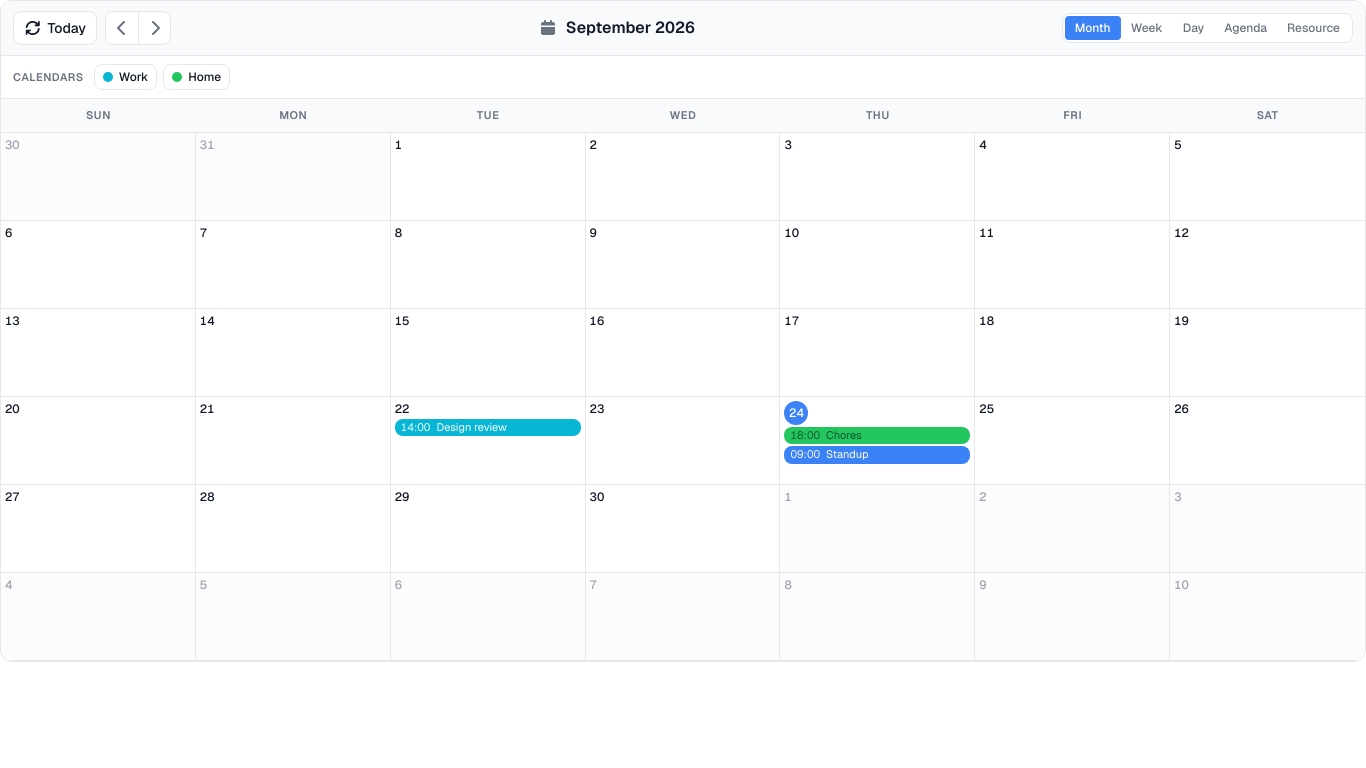
Test: <Calendar /> calendar legend › toggles a calendar’s events on and off
The width and height of the screenshot is (1366, 768).
Click the switch labelled "Home".
click(197, 77)  # box x1=163 y1=64 x2=230 y2=90
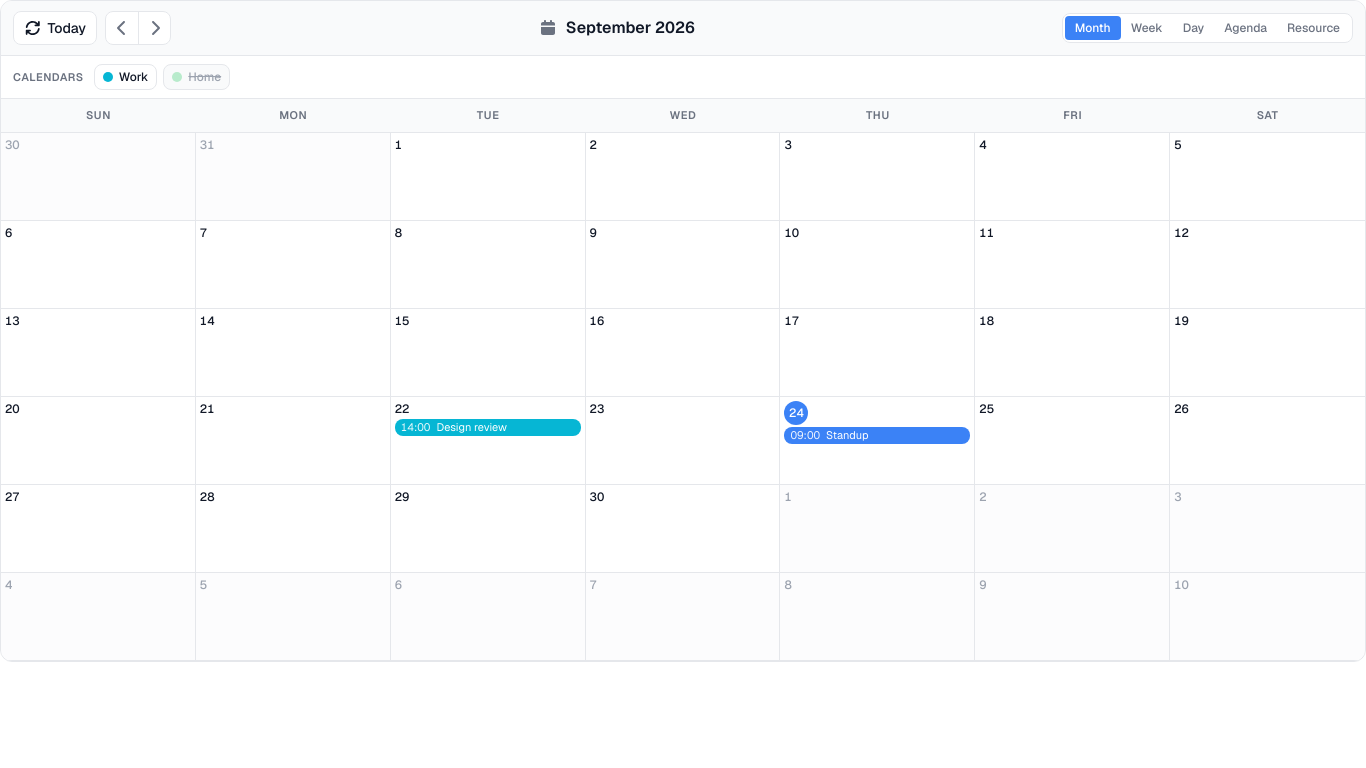
Check: the button "14:00 Design review" is shown, box x1=395 y1=418 x2=581 y2=436
Check: the button "Chores" is gone
Click the switch labelled "Home".
click(197, 77)  # box x1=163 y1=64 x2=230 y2=90
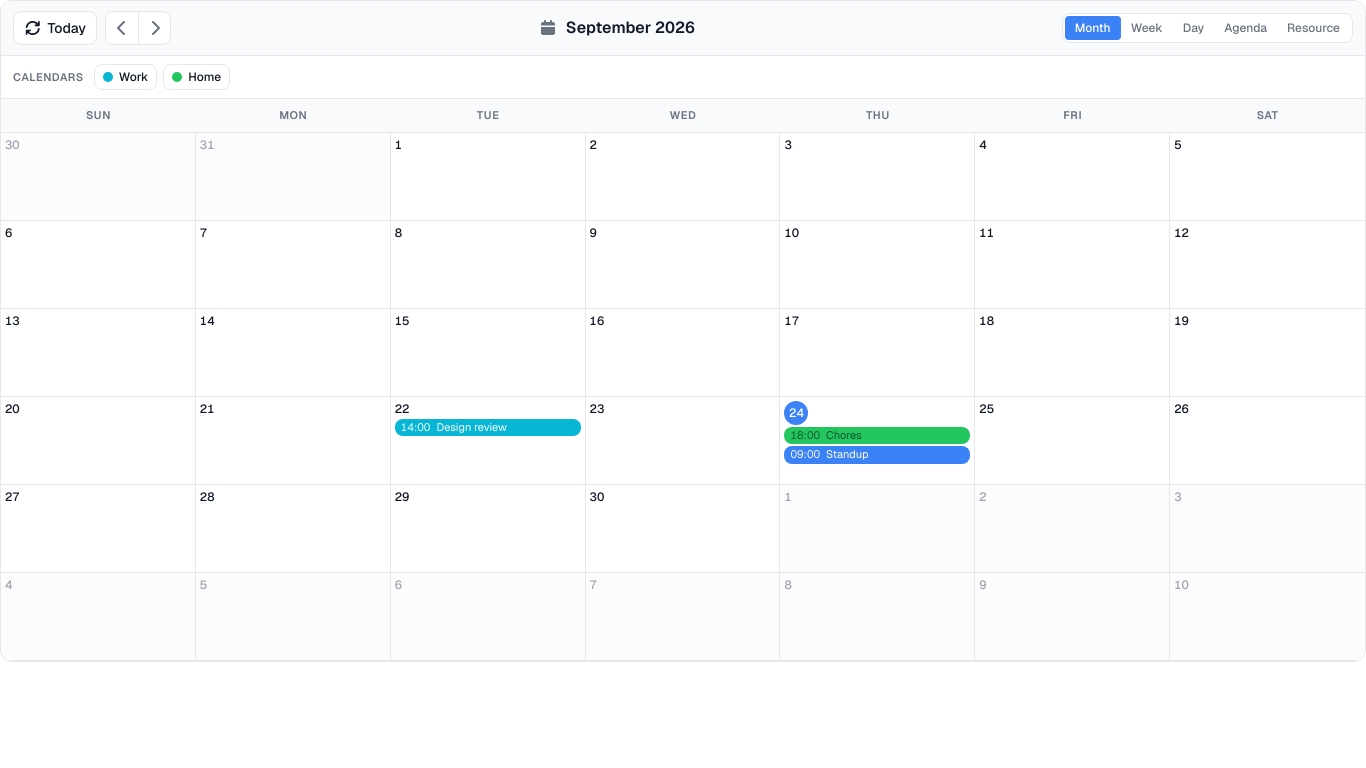
Check: the button "18:00 Chores" is shown, box x1=784 y1=426 x2=970 y2=444
